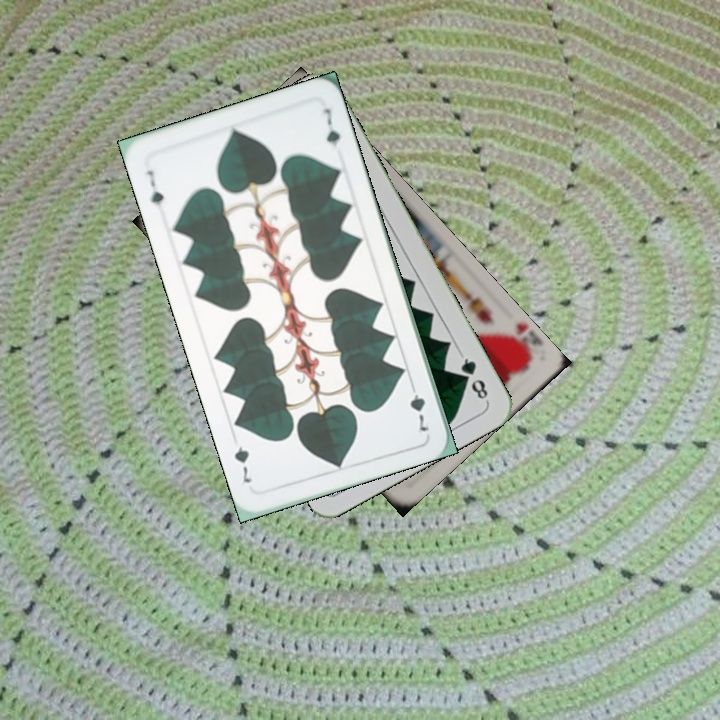G7: (405, 377, 432, 435), (143, 166, 167, 208)
G8: (456, 350, 491, 404)
HK: (499, 318, 543, 365)
